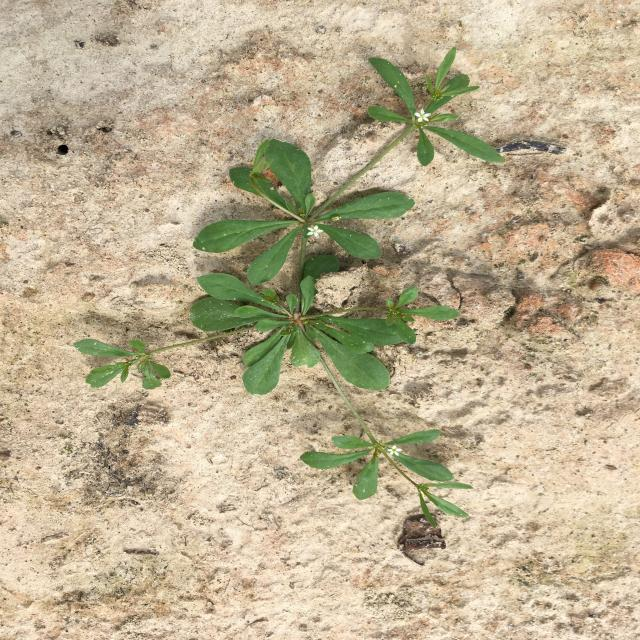Carpetweed: (73, 46, 504, 528)
